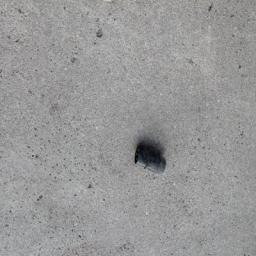FOD: (133, 139, 171, 178)
